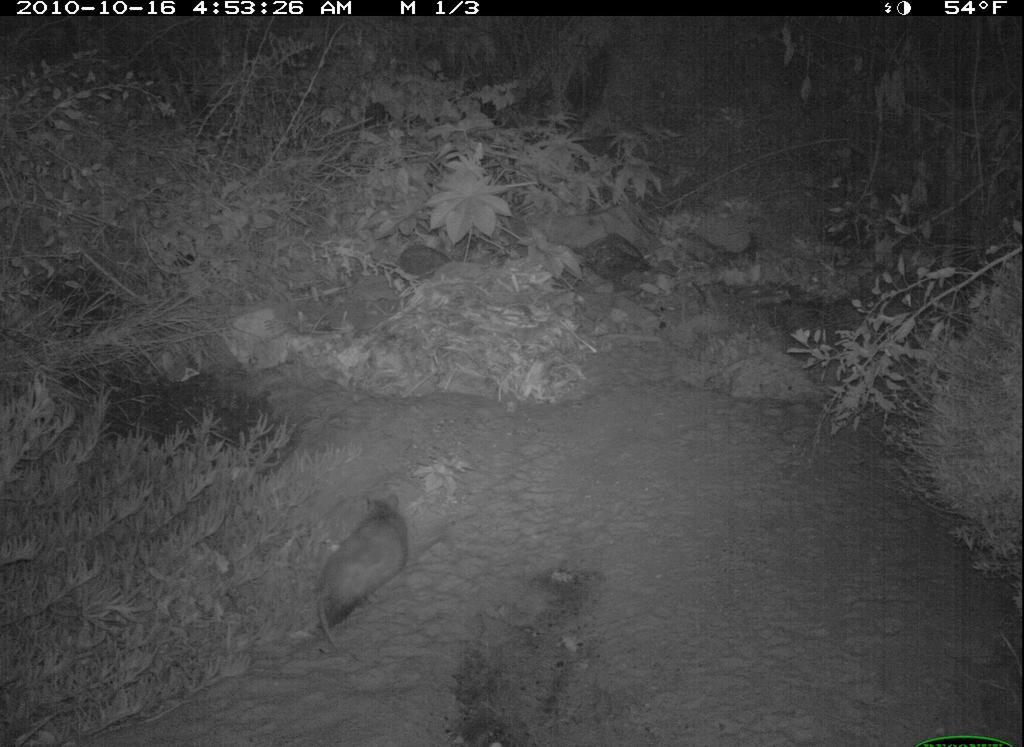opossum: (296, 468, 413, 666)
